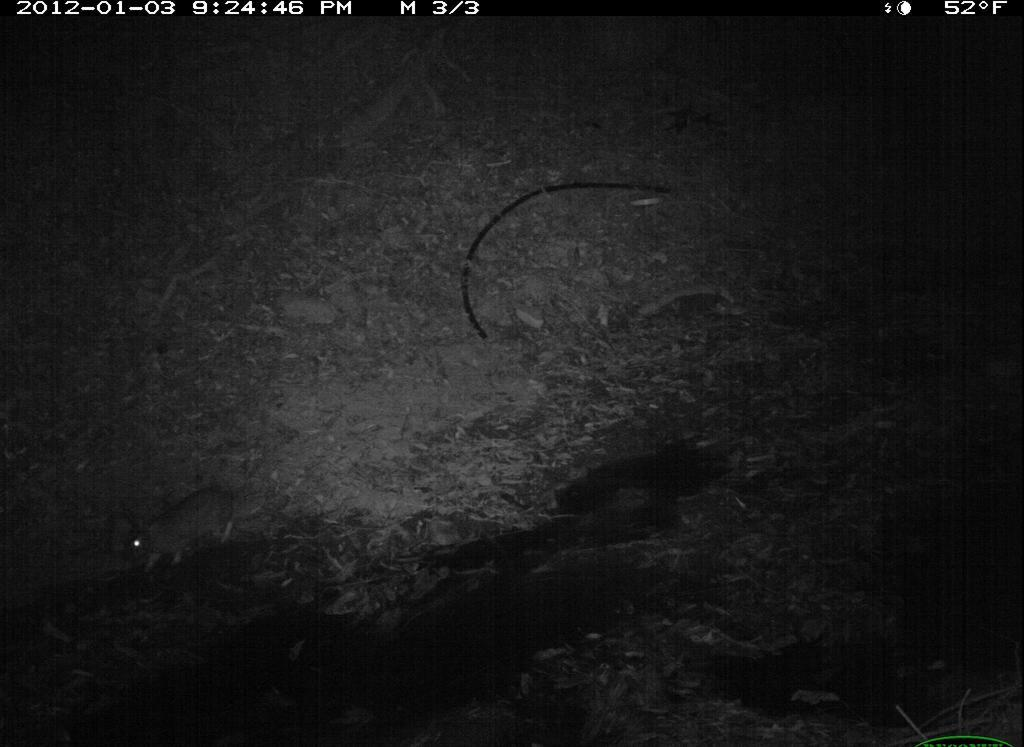rabbit: (97, 481, 257, 583)
